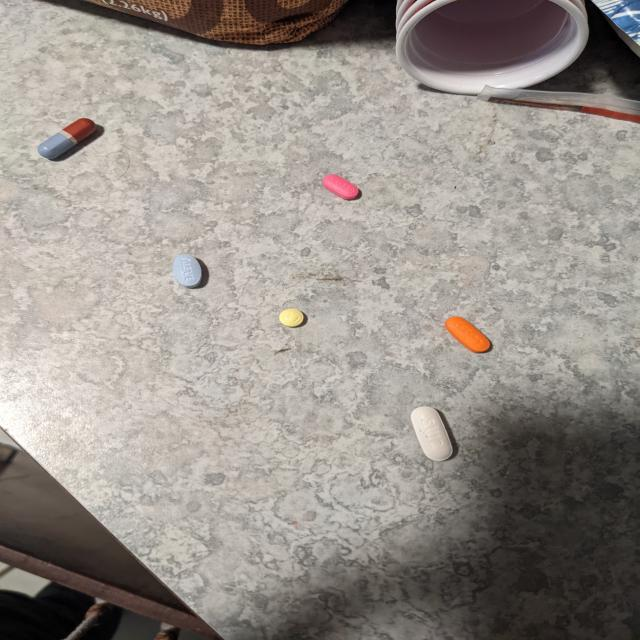non-organic waste: (36, 118, 98, 160), (410, 405, 453, 462), (443, 316, 491, 354), (172, 253, 204, 288), (322, 173, 360, 200), (279, 308, 305, 328)
